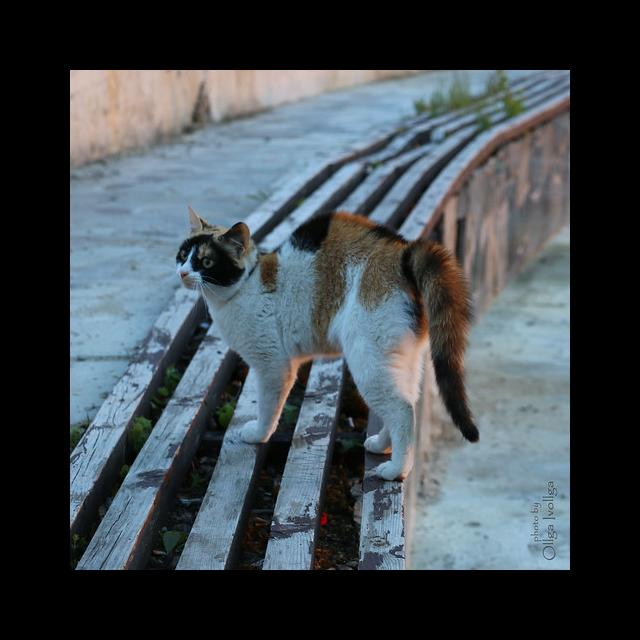animals: (175, 205, 478, 481)
